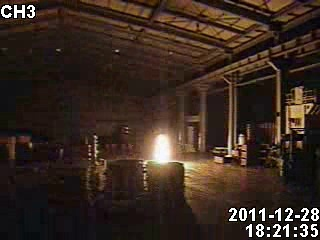fire: (150, 132, 171, 164)
